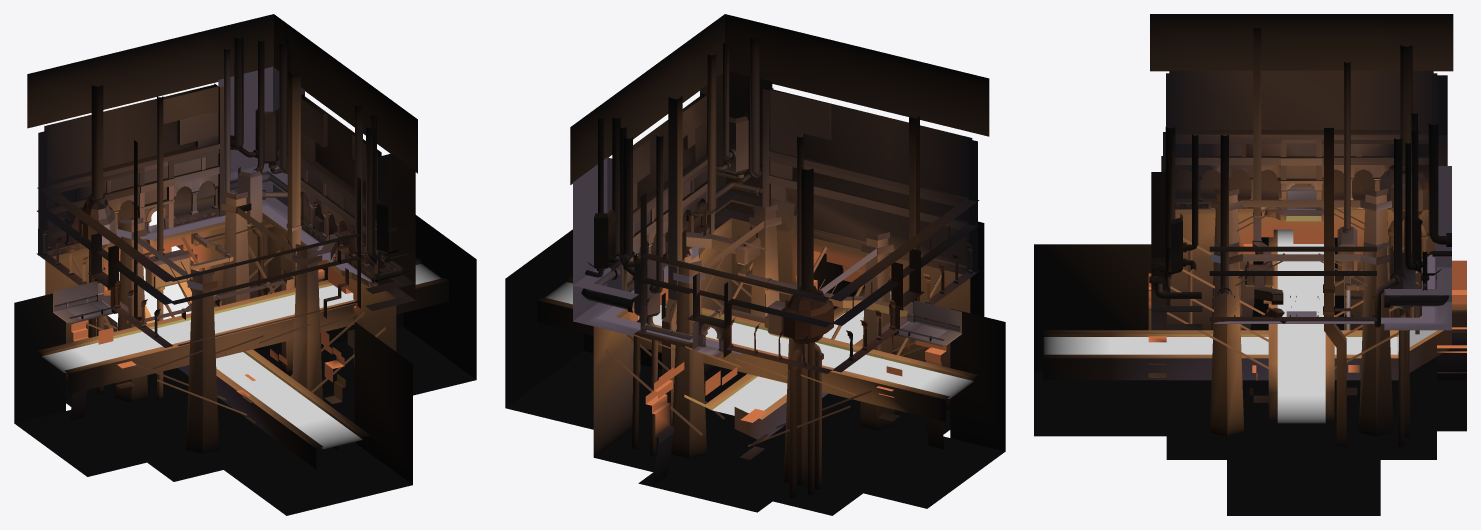
File: 08Lava.gltf
3 renders of one model, left to right at view 1: azimuth 30°, elevation 25°; view 2: azimuth 150°, elevation 25°; view 3: azimuth 270°, elevation 25°, orthographic. The views are drawn at different scales.
Parts seen in each view (by area): view 1: stg031_o26_Mesh_0040, stg031_o26_Mesh_0023, stg031_o26_Mesh_0035, stg031_o26_Mesh_0011, stg031_o26_Mesh_0028, stg031_steelflow_26_Mesh_0001, stg031_o26_Mesh_0036, stg031_o26_Mesh_0017, stg031_o26_Mesh_0027, stg031_o26_Mesh_0044, stg031_o26_Mesh_0006, stg031_o26_Mesh_0005 (+14 smaller); view 2: stg031_o26_Mesh_0040, stg031_o26_Mesh_0023, stg031_o26_Mesh_0011, stg031_o26_Mesh_0017, stg031_o26_Mesh_0036, stg031_o26_Mesh_0028, stg031_o26_Mesh_0035, stg031_o26_Mesh_0027, stg031_steelflow_26_Mesh_0001, stg031_o26_Mesh_0044, stg031_o26_Mesh_0006, stg031_o26_Mesh_0072 (+11 smaller); view 3: stg031_o26_Mesh_0040, stg031_o26_Mesh_0023, stg031_o26_Mesh_0011, stg031_o26_Mesh_0027, stg031_o26_Mesh_0035, stg031_steelflow_26_Mesh_0001, stg031_o26_Mesh_0017, stg031_o26_Mesh_0036, stg031_o26_Mesh_0028, stg031_o26_Mesh_0006, stg031_o26_Mesh_0018, stg031_o26_Mesh_0095 (+12 smaller).
Boxes of the visible parts, box(x1,y1,x2,y2) form: stg031_o26_Mesh_0040: box(14, 215, 476, 515); stg031_o26_Mesh_0023: box(27, 14, 417, 454); stg031_o26_Mesh_0035: box(37, 164, 448, 468); stg031_o26_Mesh_0011: box(72, 37, 408, 415); stg031_o26_Mesh_0028: box(36, 128, 374, 347); stg031_steelflow_26_Mesh_0001: box(41, 263, 441, 449); stg031_o26_Mesh_0036: box(54, 71, 399, 372); stg031_o26_Mesh_0017: box(163, 83, 391, 330); stg031_o26_Mesh_0027: box(44, 84, 381, 197); stg031_o26_Mesh_0044: box(52, 66, 415, 323); stg031_o26_Mesh_0006: box(68, 101, 413, 318); stg031_o26_Mesh_0005: box(65, 98, 390, 320); stg031_o26_Mesh_0040: box(505, 218, 1005, 515); stg031_o26_Mesh_0023: box(570, 14, 989, 485); stg031_o26_Mesh_0011: box(581, 37, 941, 498); stg031_o26_Mesh_0017: box(607, 88, 831, 458); stg031_o26_Mesh_0036: box(587, 96, 960, 425); stg031_o26_Mesh_0028: box(626, 137, 979, 373); stg031_o26_Mesh_0035: box(537, 191, 978, 439); stg031_o26_Mesh_0027: box(633, 89, 966, 202); stg031_steelflow_26_Mesh_0001: box(545, 281, 973, 415); stg031_o26_Mesh_0044: box(573, 71, 962, 346); stg031_o26_Mesh_0006: box(575, 124, 945, 340); stg031_o26_Mesh_0072: box(787, 188, 966, 266); stg031_o26_Mesh_0040: box(1034, 209, 1466, 515); stg031_o26_Mesh_0023: box(1150, 14, 1453, 436); stg031_o26_Mesh_0011: box(1149, 44, 1451, 447); stg031_o26_Mesh_0027: box(1169, 70, 1433, 129); stg031_o26_Mesh_0035: box(1043, 191, 1451, 420); stg031_steelflow_26_Mesh_0001: box(1043, 229, 1437, 423); stg031_o26_Mesh_0017: box(1151, 166, 1451, 436); stg031_o26_Mesh_0036: box(1159, 28, 1441, 446); stg031_o26_Mesh_0028: box(1161, 73, 1447, 321); stg031_o26_Mesh_0006: box(1153, 191, 1450, 329); stg031_o26_Mesh_0018: box(1175, 169, 1428, 187); stg031_o26_Mesh_0095: box(1216, 210, 1434, 322).
Bounding box in the file's own units: 158 × 120 × 144.
